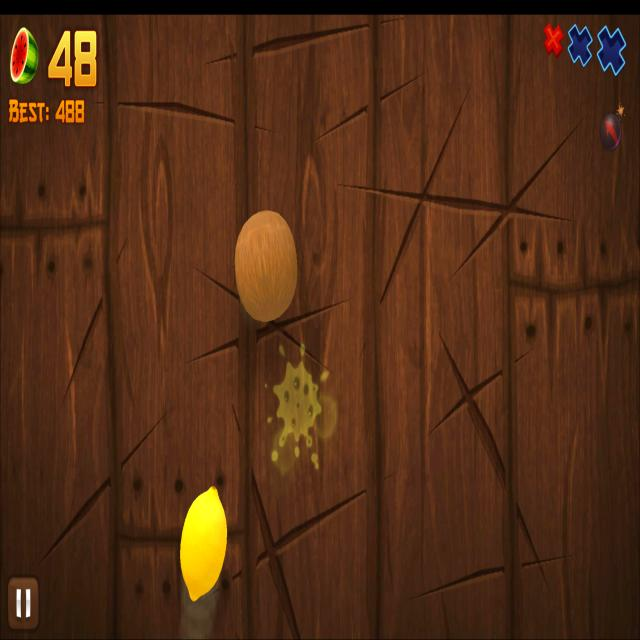fruit: (234, 211, 298, 322), (179, 485, 229, 603)
